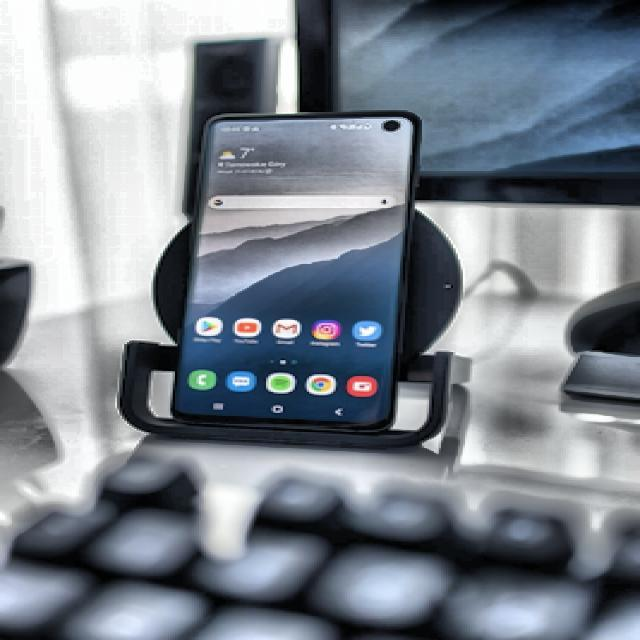Phone: (172, 113, 418, 434)
